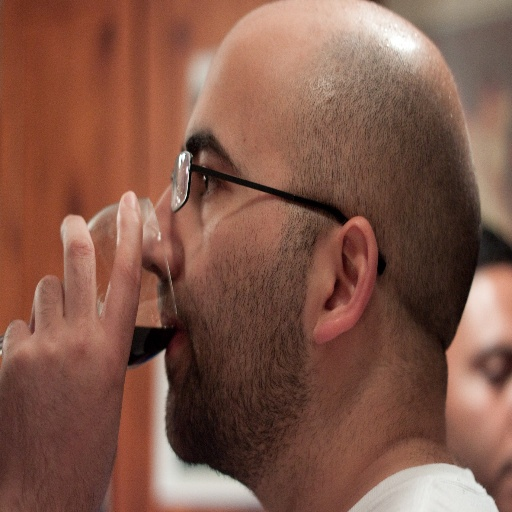hand: (10, 201, 153, 499)
